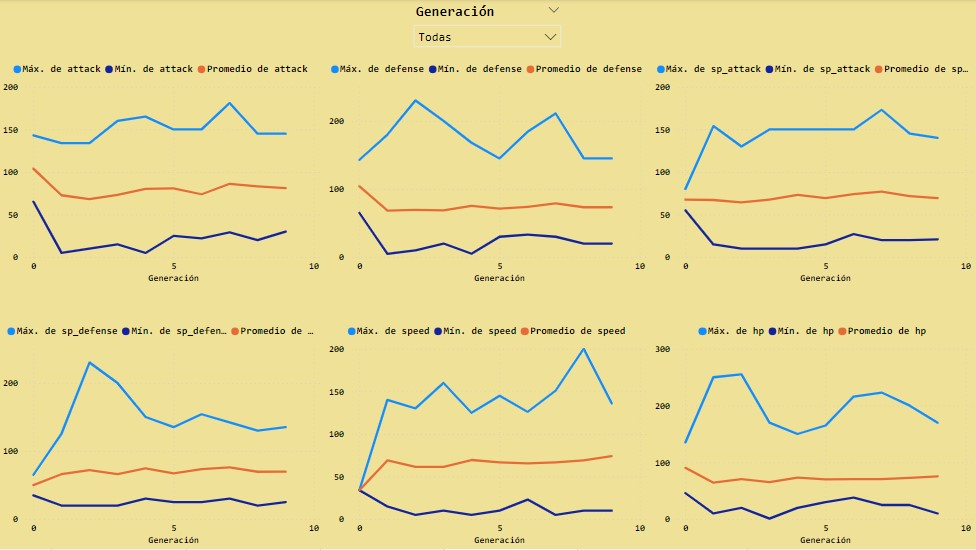

What the dashboard file says about the page in this screenshot:
{"tool":"powerbi","page":{"name":"Stats/generación","canvas":[1280,720],"ordinal":4},"visuals":[{"type":"lineChart","fields":{"Category":["poke.generation"],"Y":["Max(poke.attack)","Min(poke.attack)","Avg(poke.attack)"]},"box":[0,72,426.8,305],"z":0},{"type":"lineChart","fields":{"Category":["poke.generation"],"Y":["Max(poke.sp_attack)","Min(poke.sp_attack)","Avg(poke.sp_attack)"]},"box":[853.5,72,426.8,305],"z":1000},{"type":"lineChart","fields":{"Category":["poke.generation"],"Y":["Max(poke.defense)","Min(poke.defense)","Avg(poke.defense)"]},"box":[426.8,72,426.8,305],"z":2000},{"type":"lineChart","fields":{"Category":["poke.generation"],"Y":["Max(poke.sp_defense)","Min(poke.sp_defense)1","Avg(poke.sp_defense)"]},"box":[0,415,426.8,305],"z":3000},{"type":"lineChart","fields":{"Category":["poke.generation"],"Y":["Max(poke.speed)","Min(poke.speed)","Avg(poke.speed)"]},"box":[426.8,415,426.8,305],"z":4000},{"type":"lineChart","fields":{"Category":["poke.generation"],"Y":["Max(poke.hp)","Min(poke.hp)","Avg(poke.hp)"]},"box":[853.5,415,426.8,305],"z":5000},{"type":"slicer","fields":{"Values":["poke.generation","poke.number"]},"box":[532.8,0,213.4,72],"z":6000}]}

Visuals, with their boxes in screenshot pixels (x1, y1, x2, y2), scaled from the page's 1280x720 canvas onto the 976x550 screenshot:
lineChart - poke.generation x Max(poke.attack): select_region(0, 55, 325, 288)
lineChart - poke.generation x Max(poke.sp_attack): select_region(651, 55, 975, 288)
lineChart - poke.generation x Max(poke.defense): select_region(325, 55, 651, 288)
lineChart - poke.generation x Max(poke.sp_defense): select_region(0, 317, 325, 549)
lineChart - poke.generation x Max(poke.speed): select_region(325, 317, 651, 549)
lineChart - poke.generation x Max(poke.hp): select_region(651, 317, 975, 549)
slicer - poke.generation x poke.number: select_region(406, 0, 569, 55)
